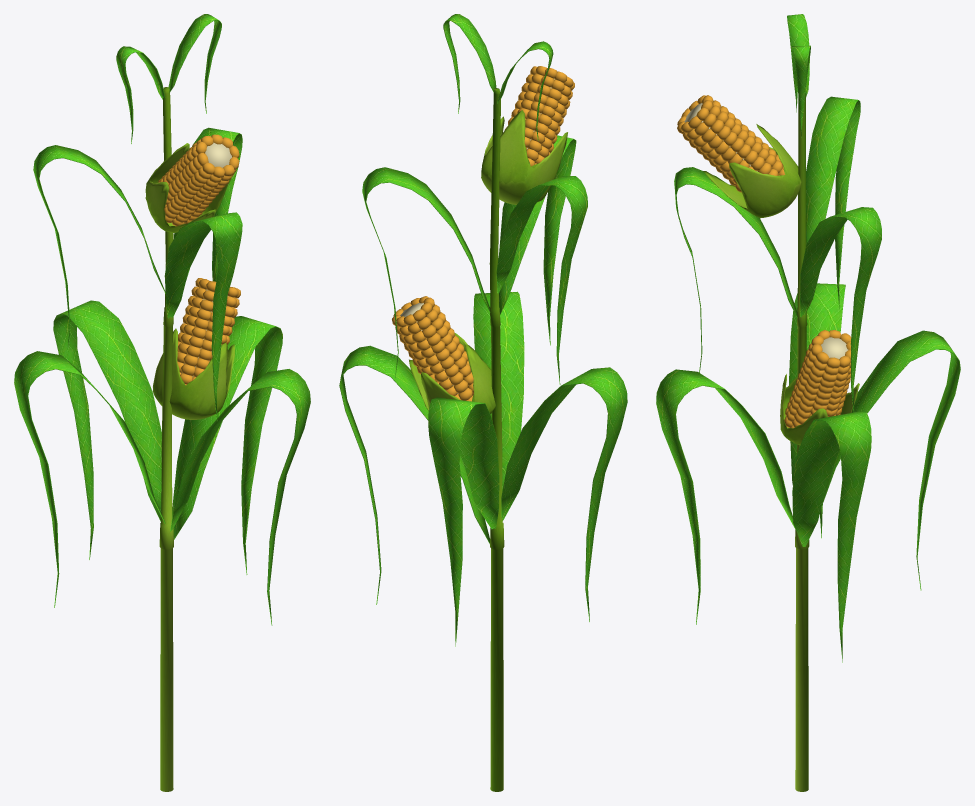
Rendered from cornPlant 1.fbx.
The picture shows the model from 3 angles, left to right: view 1: azimuth 30°, elevation 25°; view 2: azimuth 150°, elevation 25°; view 3: azimuth 270°, elevation 25°; orthographic projection.
Parts seen in each view (by area): view 1: Corn Plant, Corn Plant .001; view 2: Corn Plant, Corn Plant .001; view 3: Corn Plant, Corn Plant .001.
Part boxes in pixels (box(x1,y1,x2,y2)): Corn Plant: box(14, 14, 310, 791); Corn Plant .001: box(145, 134, 240, 419); Corn Plant: box(339, 14, 627, 791); Corn Plant .001: box(392, 66, 574, 413); Corn Plant: box(656, 14, 960, 791); Corn Plant .001: box(677, 95, 859, 445).
Bounding box in the file's own units: 116 × 312 × 113.
